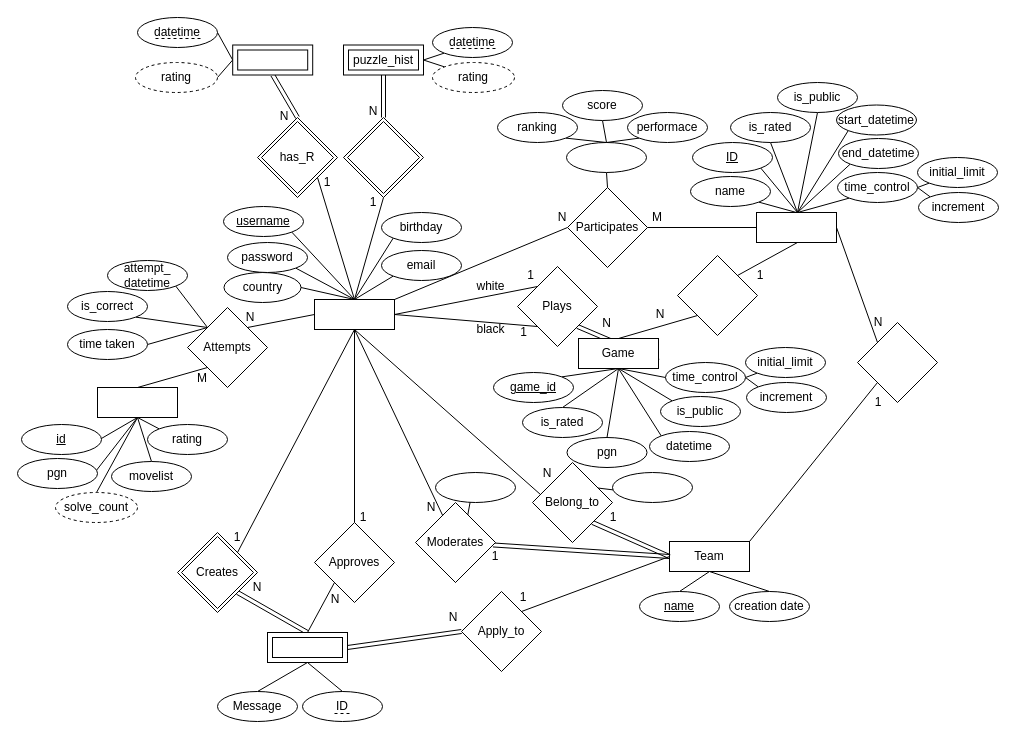
Image size: 1016x739. Some labels were removed from this diagram. The centre of each missing label's shape, as x and y in pixels:
Application: point 307,647
has_P: point 383,157
Hosts: point 897,362
join_date: point 652,487
Part_of: point 717,295
Player: point 354,314
Puzzle: point 137,402
rating_hist: point 272,59
results: point 606,157
start_date: point 475,487
Tournament: point 796,227
